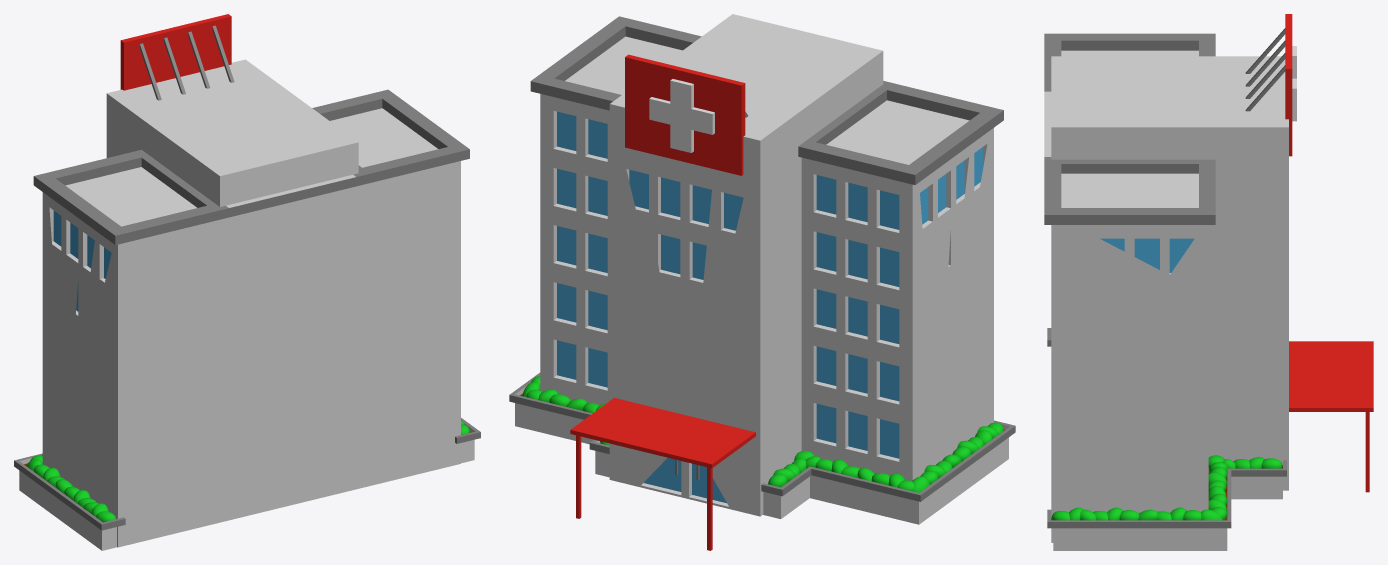
The model's file is Hospital.fbx.
3 renders of one model, left to right at view 1: azimuth 30°, elevation 25°; view 2: azimuth 150°, elevation 25°; view 3: azimuth 270°, elevation 25°, orthographic. The views are drawn at different scales.
Parts seen in each view (by area): view 1: Cube, Cube.003, Cube.006, Cube.009, Cube.004; view 2: Cube, Cube.006, Cube.003, Cube.001, Cube.009, Cube.005, Cube.002; view 3: Cube, Cube.006, Cube.001, Cube.009, Cube.004, Cube.003.
Boxes of the visible parts, left/top/right/bottom form: Cube: left=33, top=59, right=469, bottom=547; Cube.003: left=120, top=14, right=231, bottom=90; Cube.006: left=14, top=418, right=480, bottom=550; Cube.009: left=26, top=420, right=469, bottom=522; Cube.004: left=140, top=25, right=234, bottom=100; Cube: left=530, top=14, right=1003, bottom=516; Cube.006: left=509, top=372, right=1015, bottom=524; Cube.003: left=625, top=54, right=745, bottom=175; Cube.001: left=570, top=398, right=755, bottom=468; Cube.009: left=522, top=376, right=1003, bottom=492; Cube.005: left=649, top=79, right=714, bottom=152; Cube.002: left=576, top=435, right=712, bottom=550; Cube: left=1044, top=33, right=1288, bottom=542; Cube.006: left=1047, top=328, right=1286, bottom=550; Cube.001: left=1289, top=341, right=1373, bottom=411; Cube.009: left=1052, top=455, right=1282, bottom=520; Cube.004: left=1245, top=28, right=1285, bottom=111; Cube.003: left=1285, top=14, right=1292, bottom=156.
Size of the model in its own units: 13352 by 13450 by 9573.
